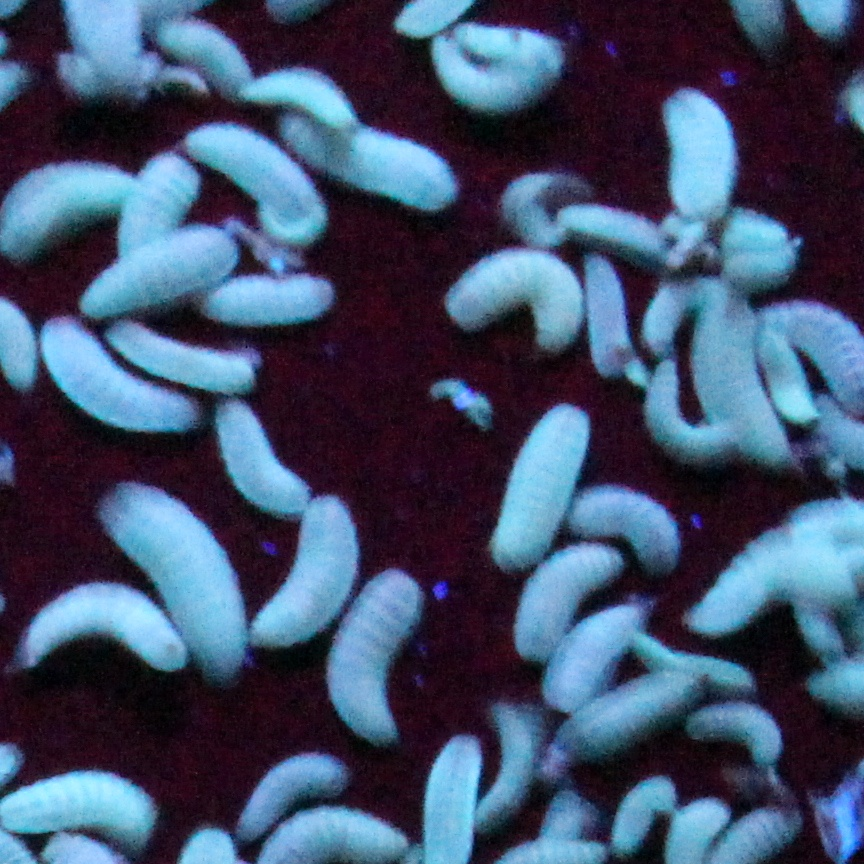larve: (90, 478, 243, 691), (477, 388, 600, 578), (23, 319, 210, 442), (236, 488, 362, 662), (328, 557, 428, 762), (177, 121, 335, 240), (421, 240, 587, 349), (3, 580, 197, 663), (510, 531, 626, 668), (653, 80, 746, 229), (221, 747, 359, 845), (418, 29, 564, 121), (103, 309, 259, 395), (115, 141, 199, 288), (207, 398, 308, 518), (3, 154, 133, 247), (569, 475, 689, 572), (552, 191, 692, 267), (184, 262, 333, 322), (600, 770, 677, 859)
